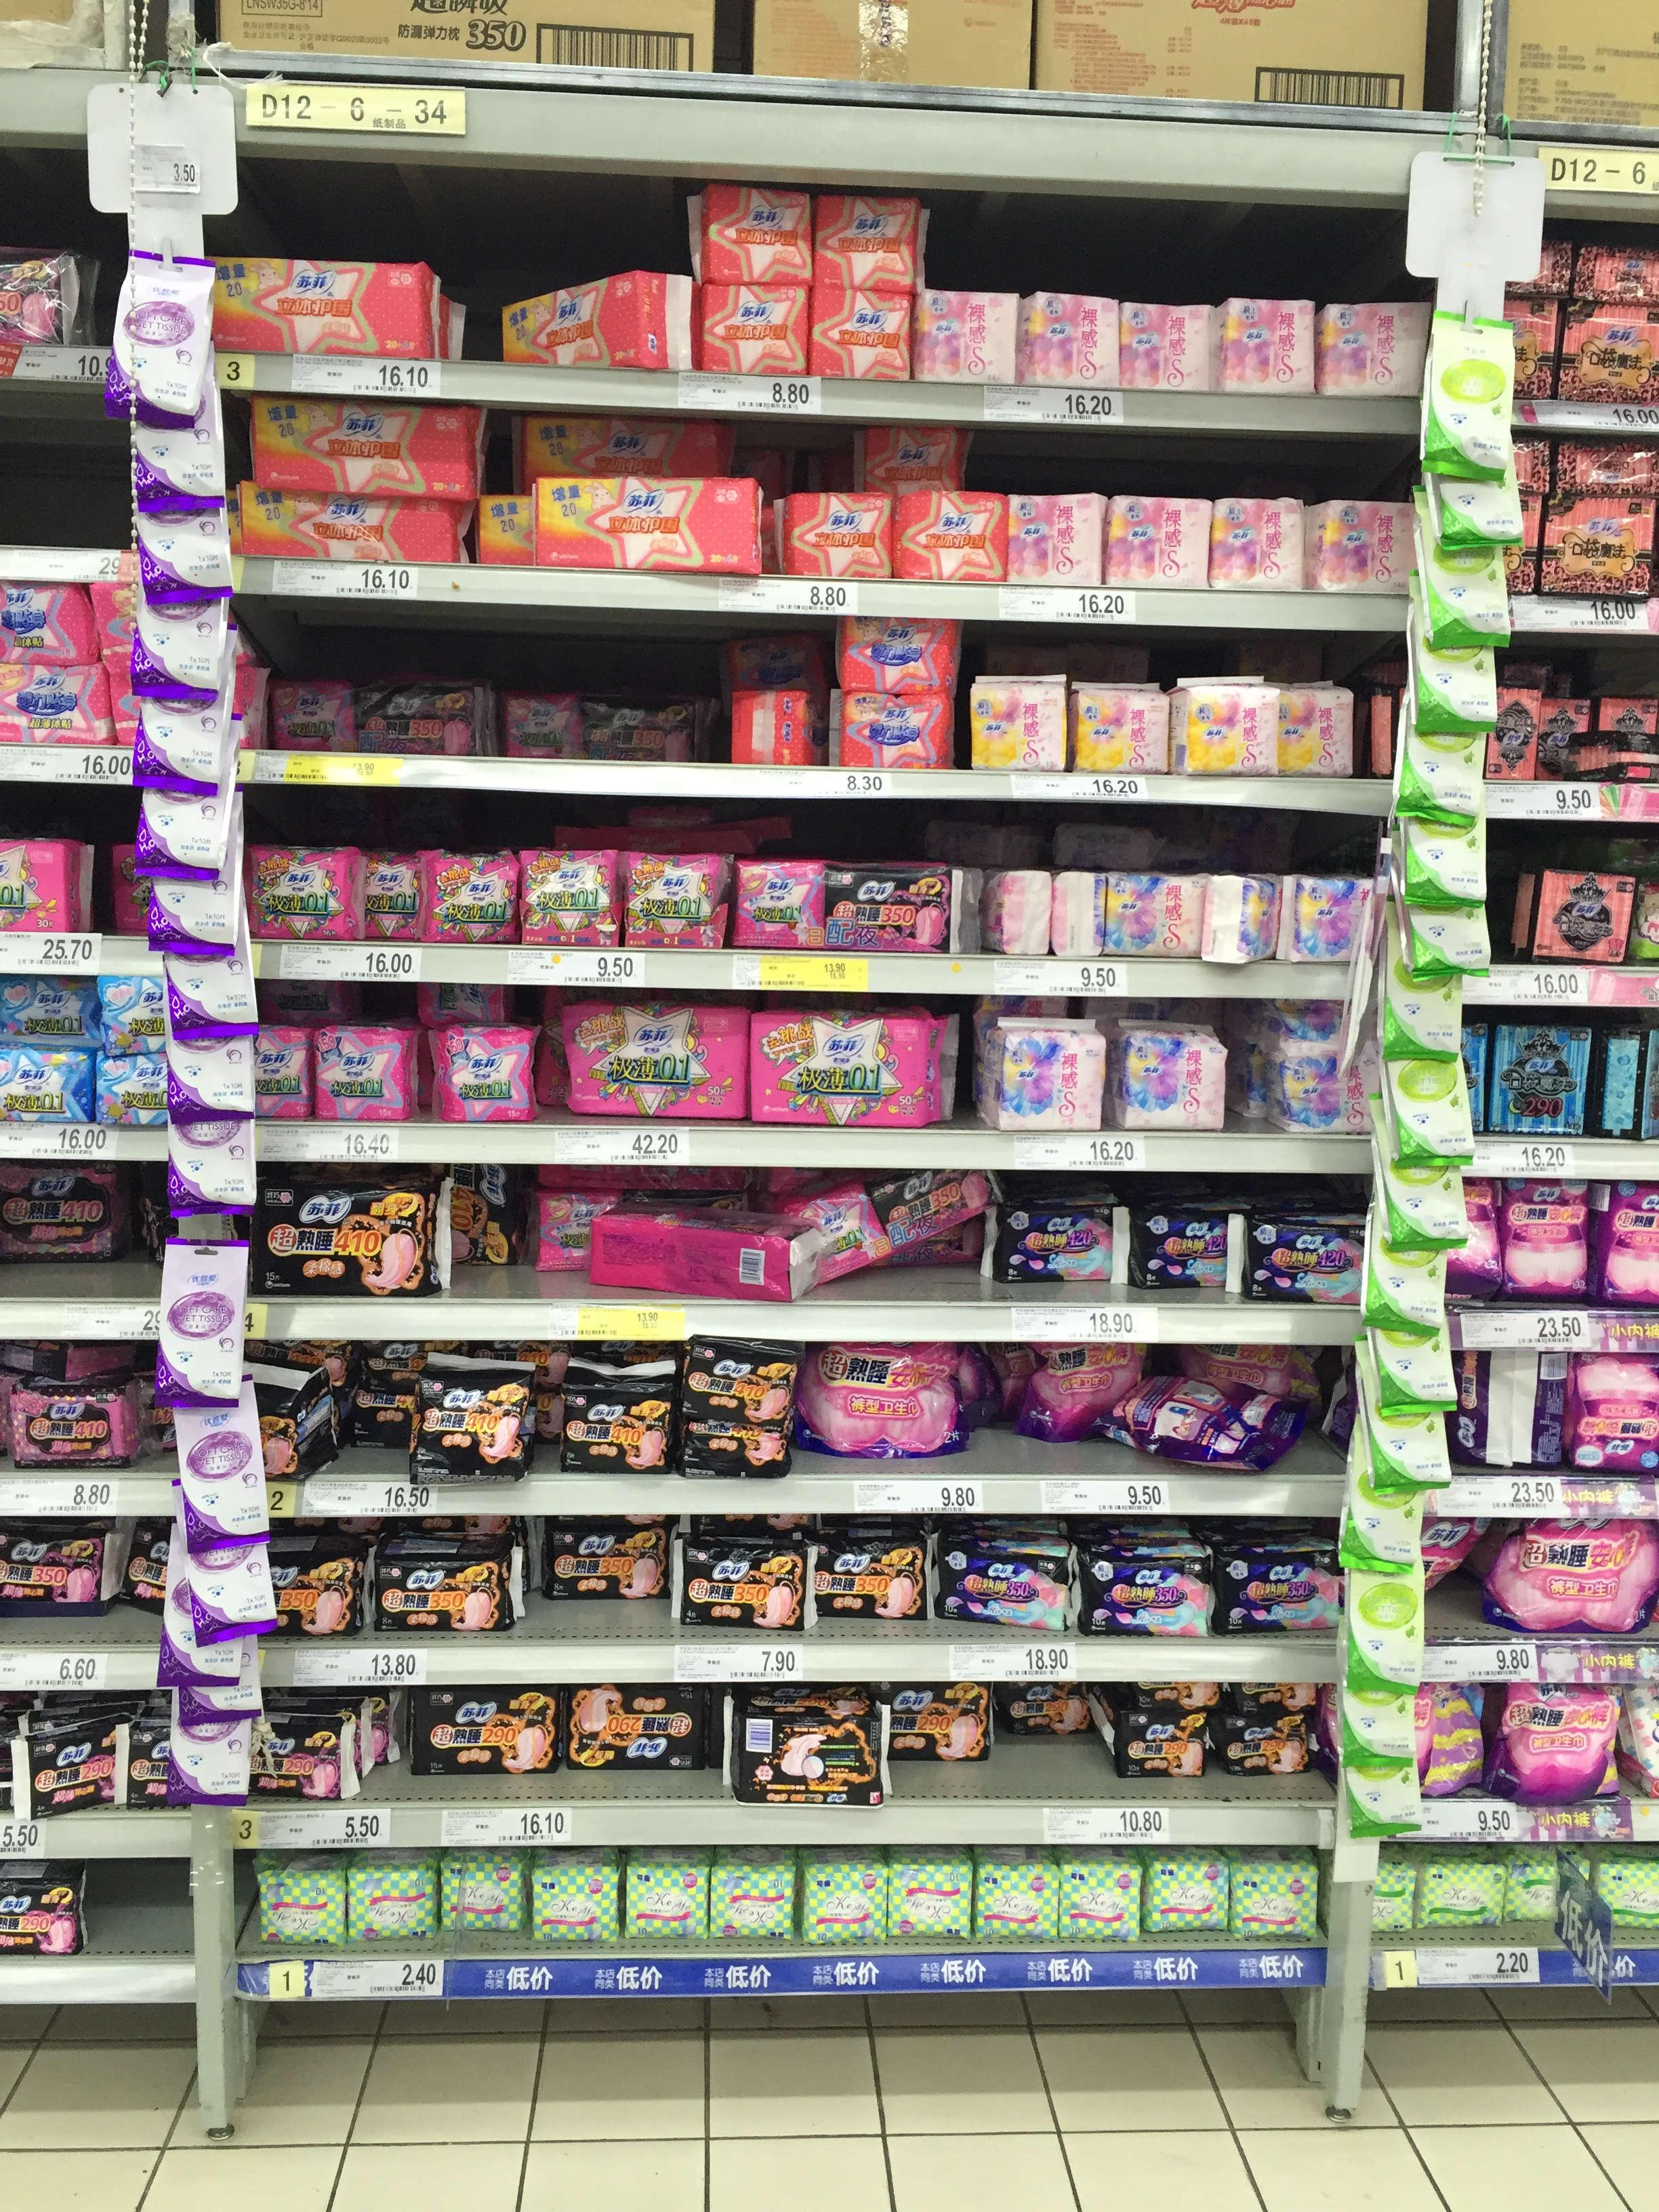empty: (3, 420, 122, 549), (91, 1858, 192, 1961), (1006, 1700, 1107, 1803)
